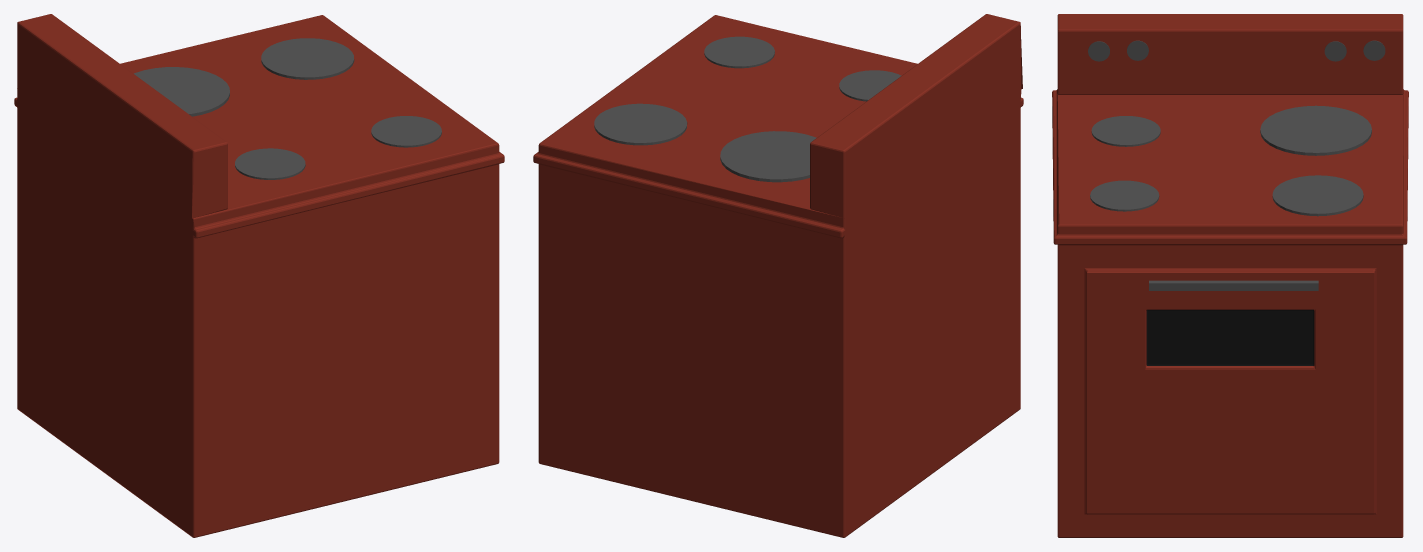
The model's file is Stove.fbx.
3 views of the same model, side by side, from view 1: azimuth 30°, elevation 25°; view 2: azimuth 150°, elevation 25°; view 3: azimuth 270°, elevation 25° (orthographic). The views are drawn at different scales.
Visible parts, largest first — view 1: Cube.047, Circle.003, Circle, Circle.002, Circle.001; view 2: Cube.047, Circle, Circle.003, Circle.002, Circle.001; view 3: Cube.047, Circle, Circle.003, Cube.048, Circle.002, Circle.001.
Boxes of the visible parts, x1,y1,x2,y2 form: Cube.047: (14,14,504,537); Circle.003: (261,38,354,79); Circle: (134,67,229,116); Circle.002: (371,116,441,147); Circle.001: (235,148,305,179); Cube.047: (533,14,1023,537); Circle: (720,131,816,182); Circle.003: (594,103,687,145); Circle.002: (704,36,774,68); Circle.001: (839,70,901,101); Cube.047: (1052,14,1408,537); Circle: (1260,105,1371,155); Circle.003: (1272,175,1363,216); Cube.048: (1149,280,1318,290); Circle.002: (1090,180,1159,211); Circle.001: (1091,116,1160,146).
Bounding box in the file's own units: 280 × 326 × 278.
